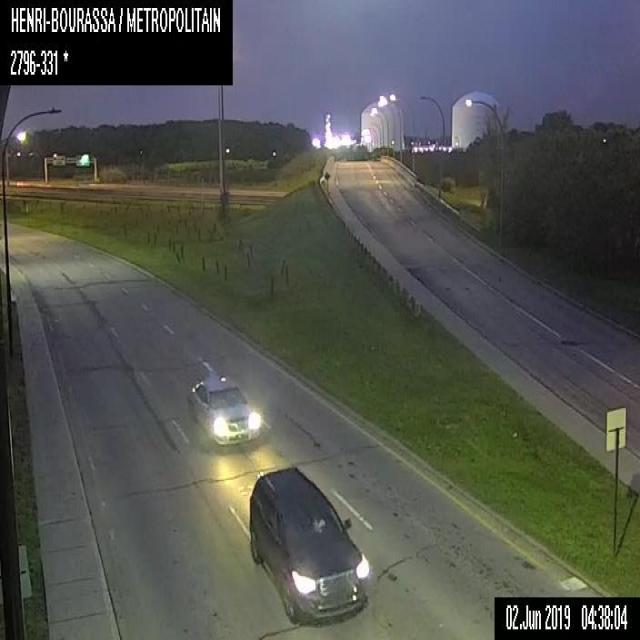vehicle: (248, 465, 369, 624), (188, 374, 261, 444)
